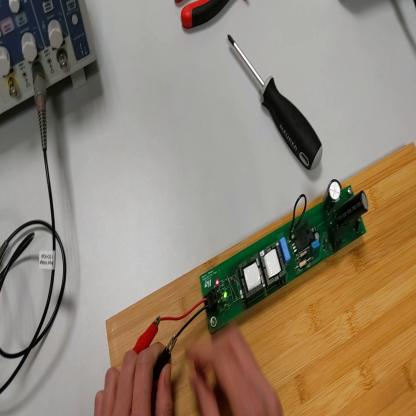hand: (186, 333, 283, 416), (94, 342, 172, 415)
high voltage board: (161, 178, 371, 336)
oscilloscope: (2, 3, 100, 118)
oscilloscope probe tip: (1, 239, 8, 264)
pliers: (175, 1, 234, 35)
screwdriver-: (228, 32, 325, 171)
working area: (105, 144, 415, 416)
